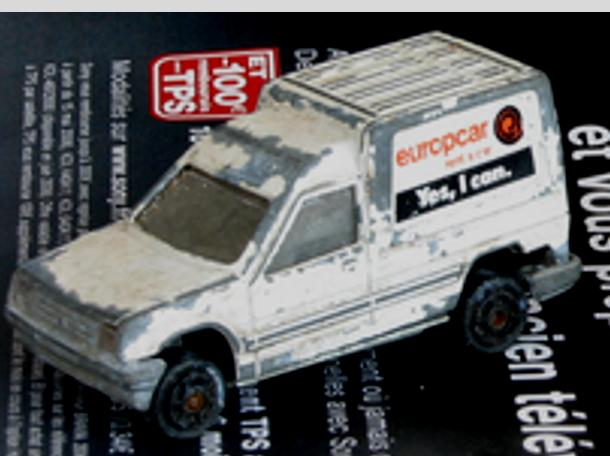toy-car: (1, 28, 584, 441)
